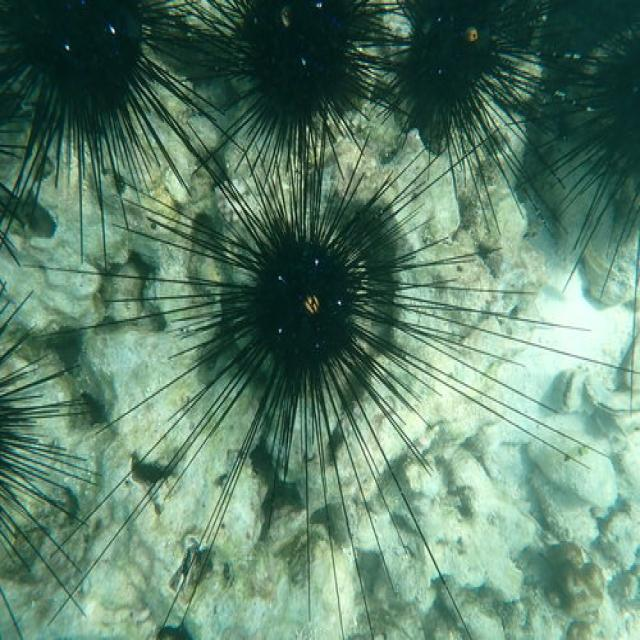Urchin: (66, 114, 614, 632), (1, 2, 223, 227), (364, 2, 552, 224), (159, 2, 398, 170), (0, 268, 100, 637), (532, 2, 640, 302)
